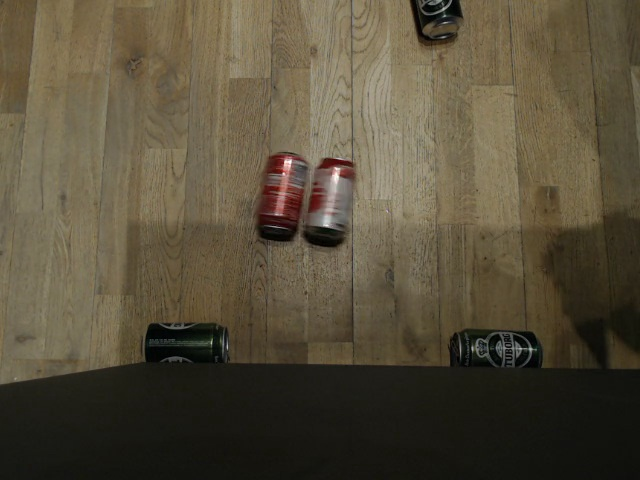beer: (448, 326, 542, 374), (138, 319, 231, 366), (410, 0, 463, 42)
cola: (254, 150, 311, 235), (303, 153, 356, 237)
